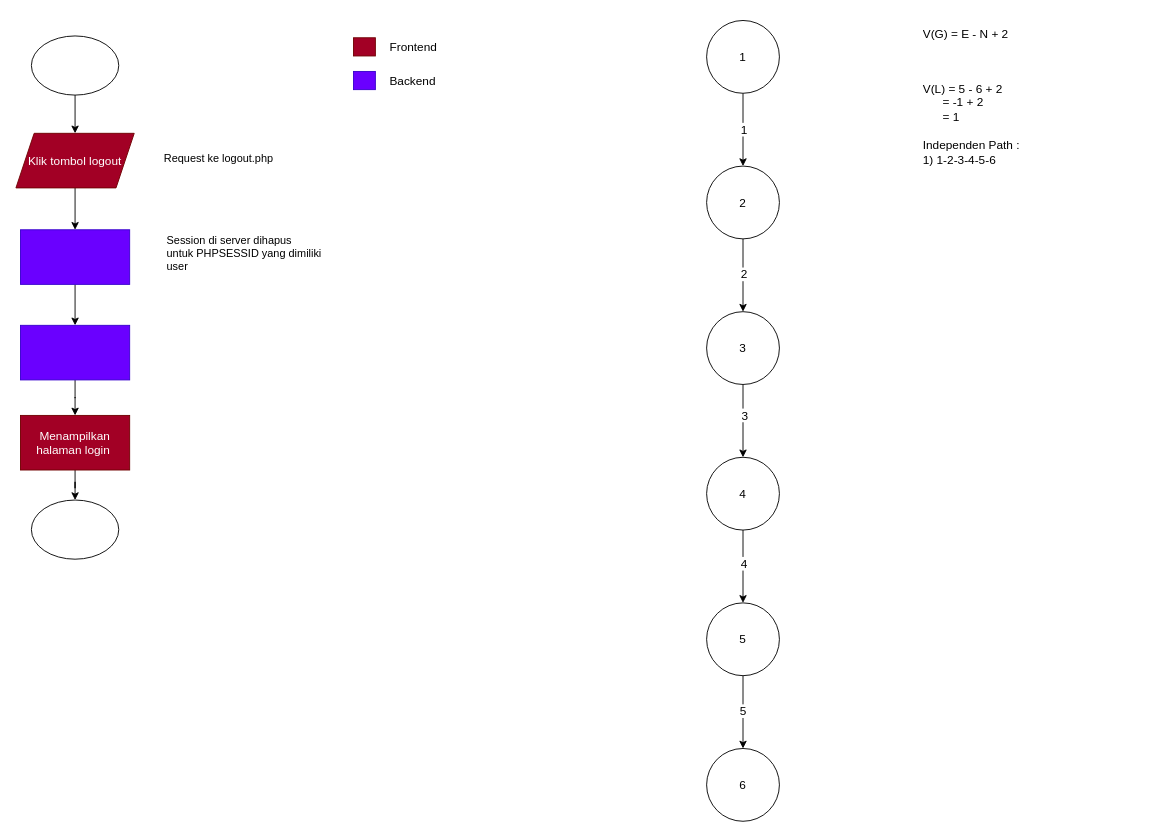
This 1169x837 diagram has some shape labels left out. The centre of each missing label's shape, as x and y in pixels:
"Hapus session di server" goes at point (75, 256).
"Mulai" goes at point (74, 65).
"Redirect ke halaman login" goes at point (75, 352).
"Selesai" goes at point (74, 529).
